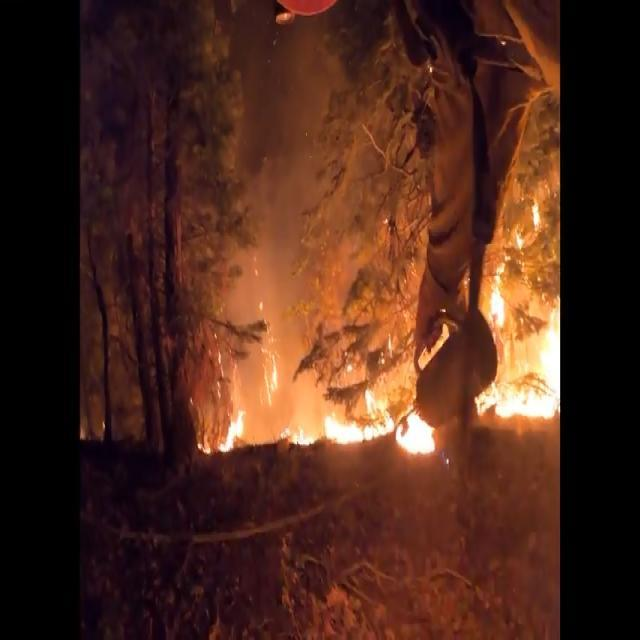Fire: (203, 248, 561, 457)
